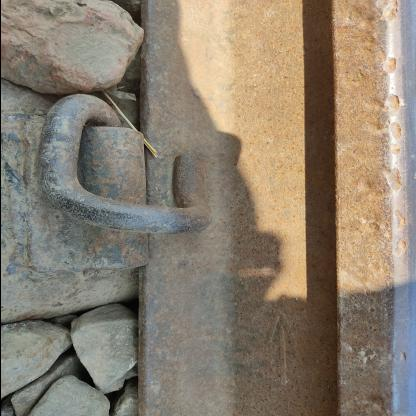Non Defective: (0, 66, 246, 290)
